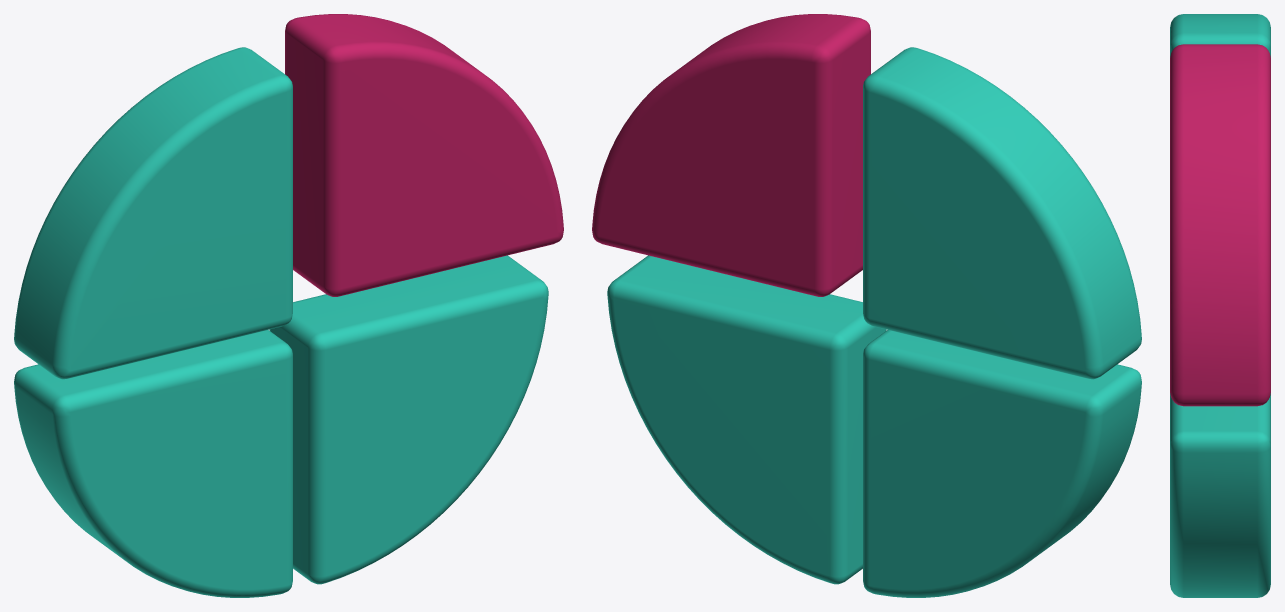
The model's file is fractions.glb.
3 renders of one model, left to right at view 1: azimuth 30°, elevation 25°; view 2: azimuth 150°, elevation 25°; view 3: azimuth 270°, elevation 25°, orthographic.
Visible parts, largest first — view 1: Quarter 2, Quarter 4, Quarter 1, Quarter 3; view 2: Quarter 2, Quarter 4, Quarter 1, Quarter 3; view 3: Quarter 1, Quarter 4, Quarter 2.
Boxes of the visible parts, bbox=[...] form: Quarter 2: bbox=[14, 47, 292, 379]; Quarter 4: bbox=[269, 255, 548, 584]; Quarter 1: bbox=[285, 14, 563, 296]; Quarter 3: bbox=[14, 330, 292, 597]; Quarter 2: bbox=[863, 47, 1141, 379]; Quarter 4: bbox=[607, 255, 886, 584]; Quarter 1: bbox=[592, 14, 870, 296]; Quarter 3: bbox=[863, 330, 1141, 597]; Quarter 1: bbox=[1170, 44, 1270, 406]; Quarter 4: bbox=[1170, 393, 1270, 597]; Quarter 2: bbox=[1170, 14, 1270, 57].
Bounding box in the file's own units: 1.53 × 1.53 × 0.26.
